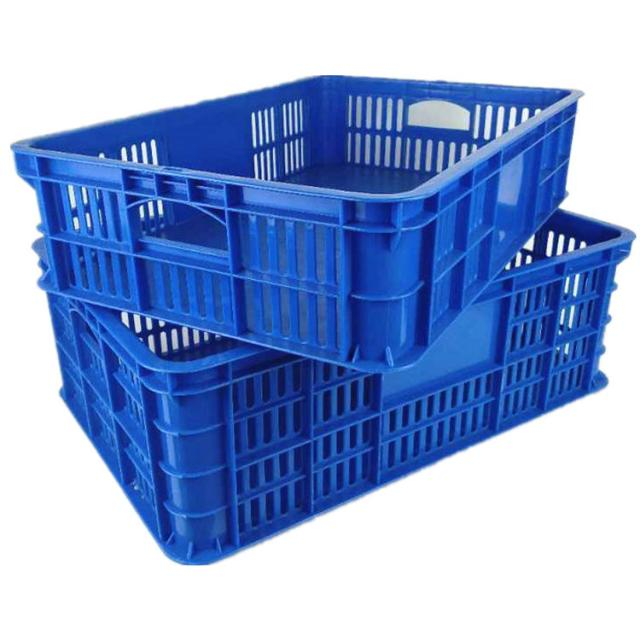basket: (0, 54, 583, 384)
